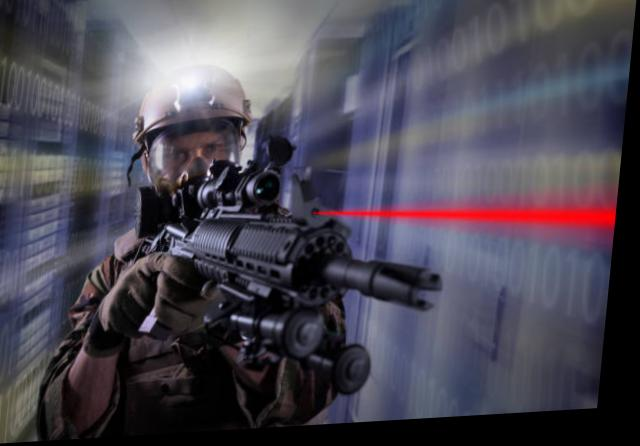other: (81, 112, 359, 439)
